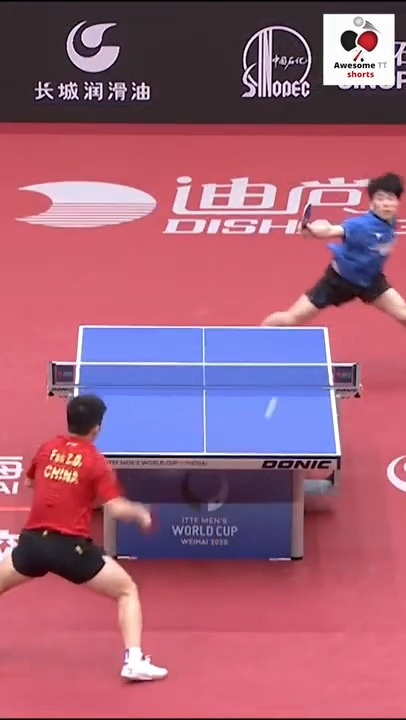Ball: (262, 398, 280, 420)
